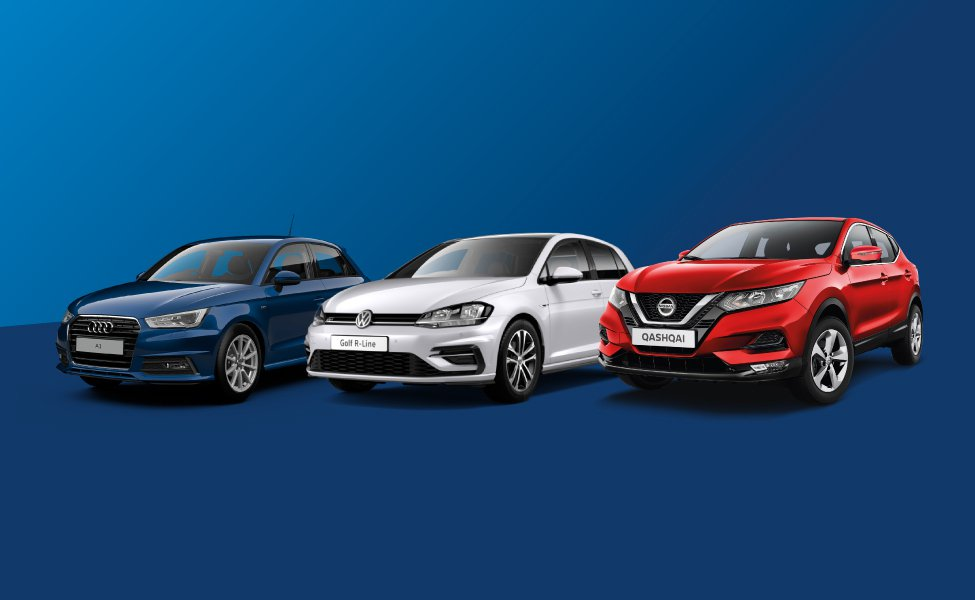car: (606, 214, 932, 396), (55, 230, 377, 405), (314, 216, 638, 389)
